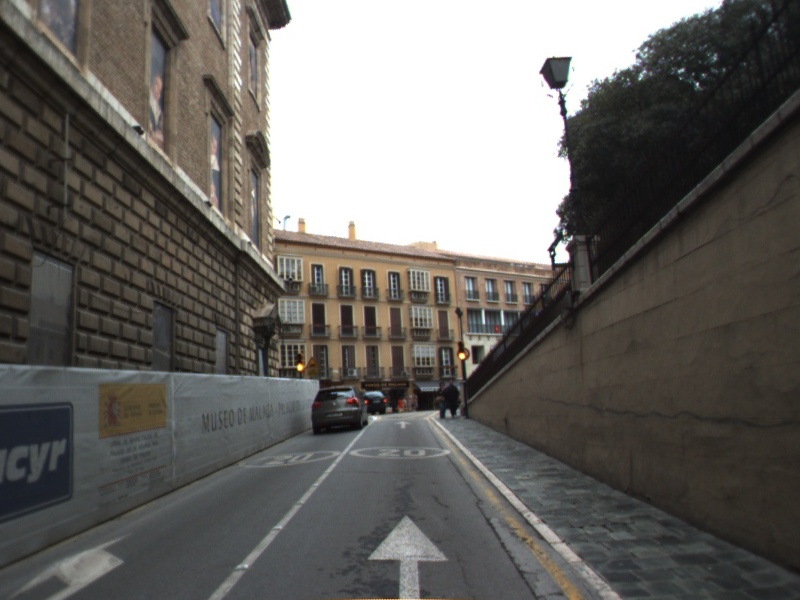LEFT: (4, 530, 137, 600)
STRAIGHT: (364, 511, 454, 600), (393, 419, 413, 430)
